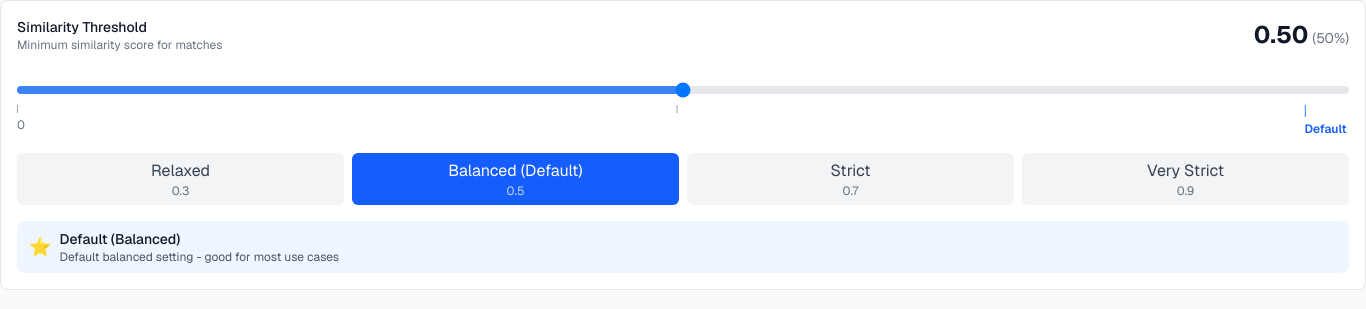
Test: SimilarityThresholdSlider › User Interactions › updates threshold when slider is moved
Set the slider to "0.75" at (1012, 90), box [17, 86, 1349, 94]
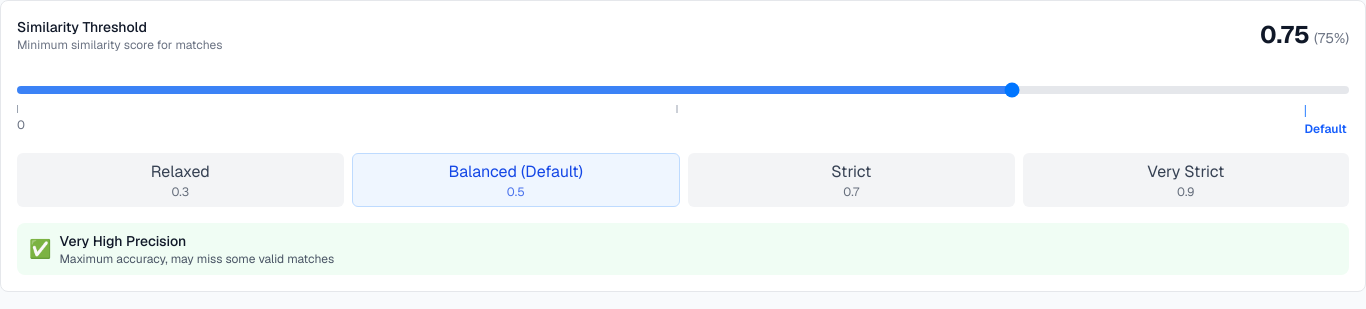
Expected: the text "0.75" is shown, [1260, 19, 1310, 50]
